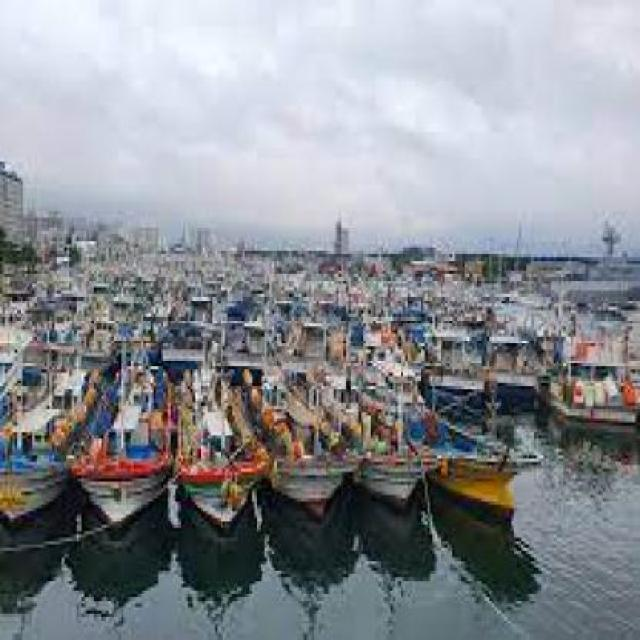fish-b: (421, 377, 550, 525), (68, 367, 174, 532), (3, 360, 76, 542), (174, 384, 260, 532), (275, 377, 355, 525), (356, 374, 424, 516)
